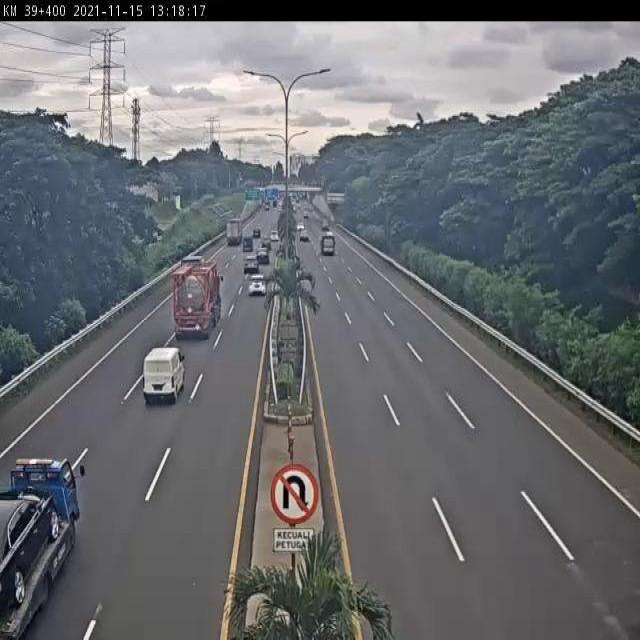bus-s-: (142, 344, 187, 404)
car: (247, 272, 268, 299)
truck-m-: (0, 454, 80, 640)
truck-xl-: (173, 257, 224, 343)
